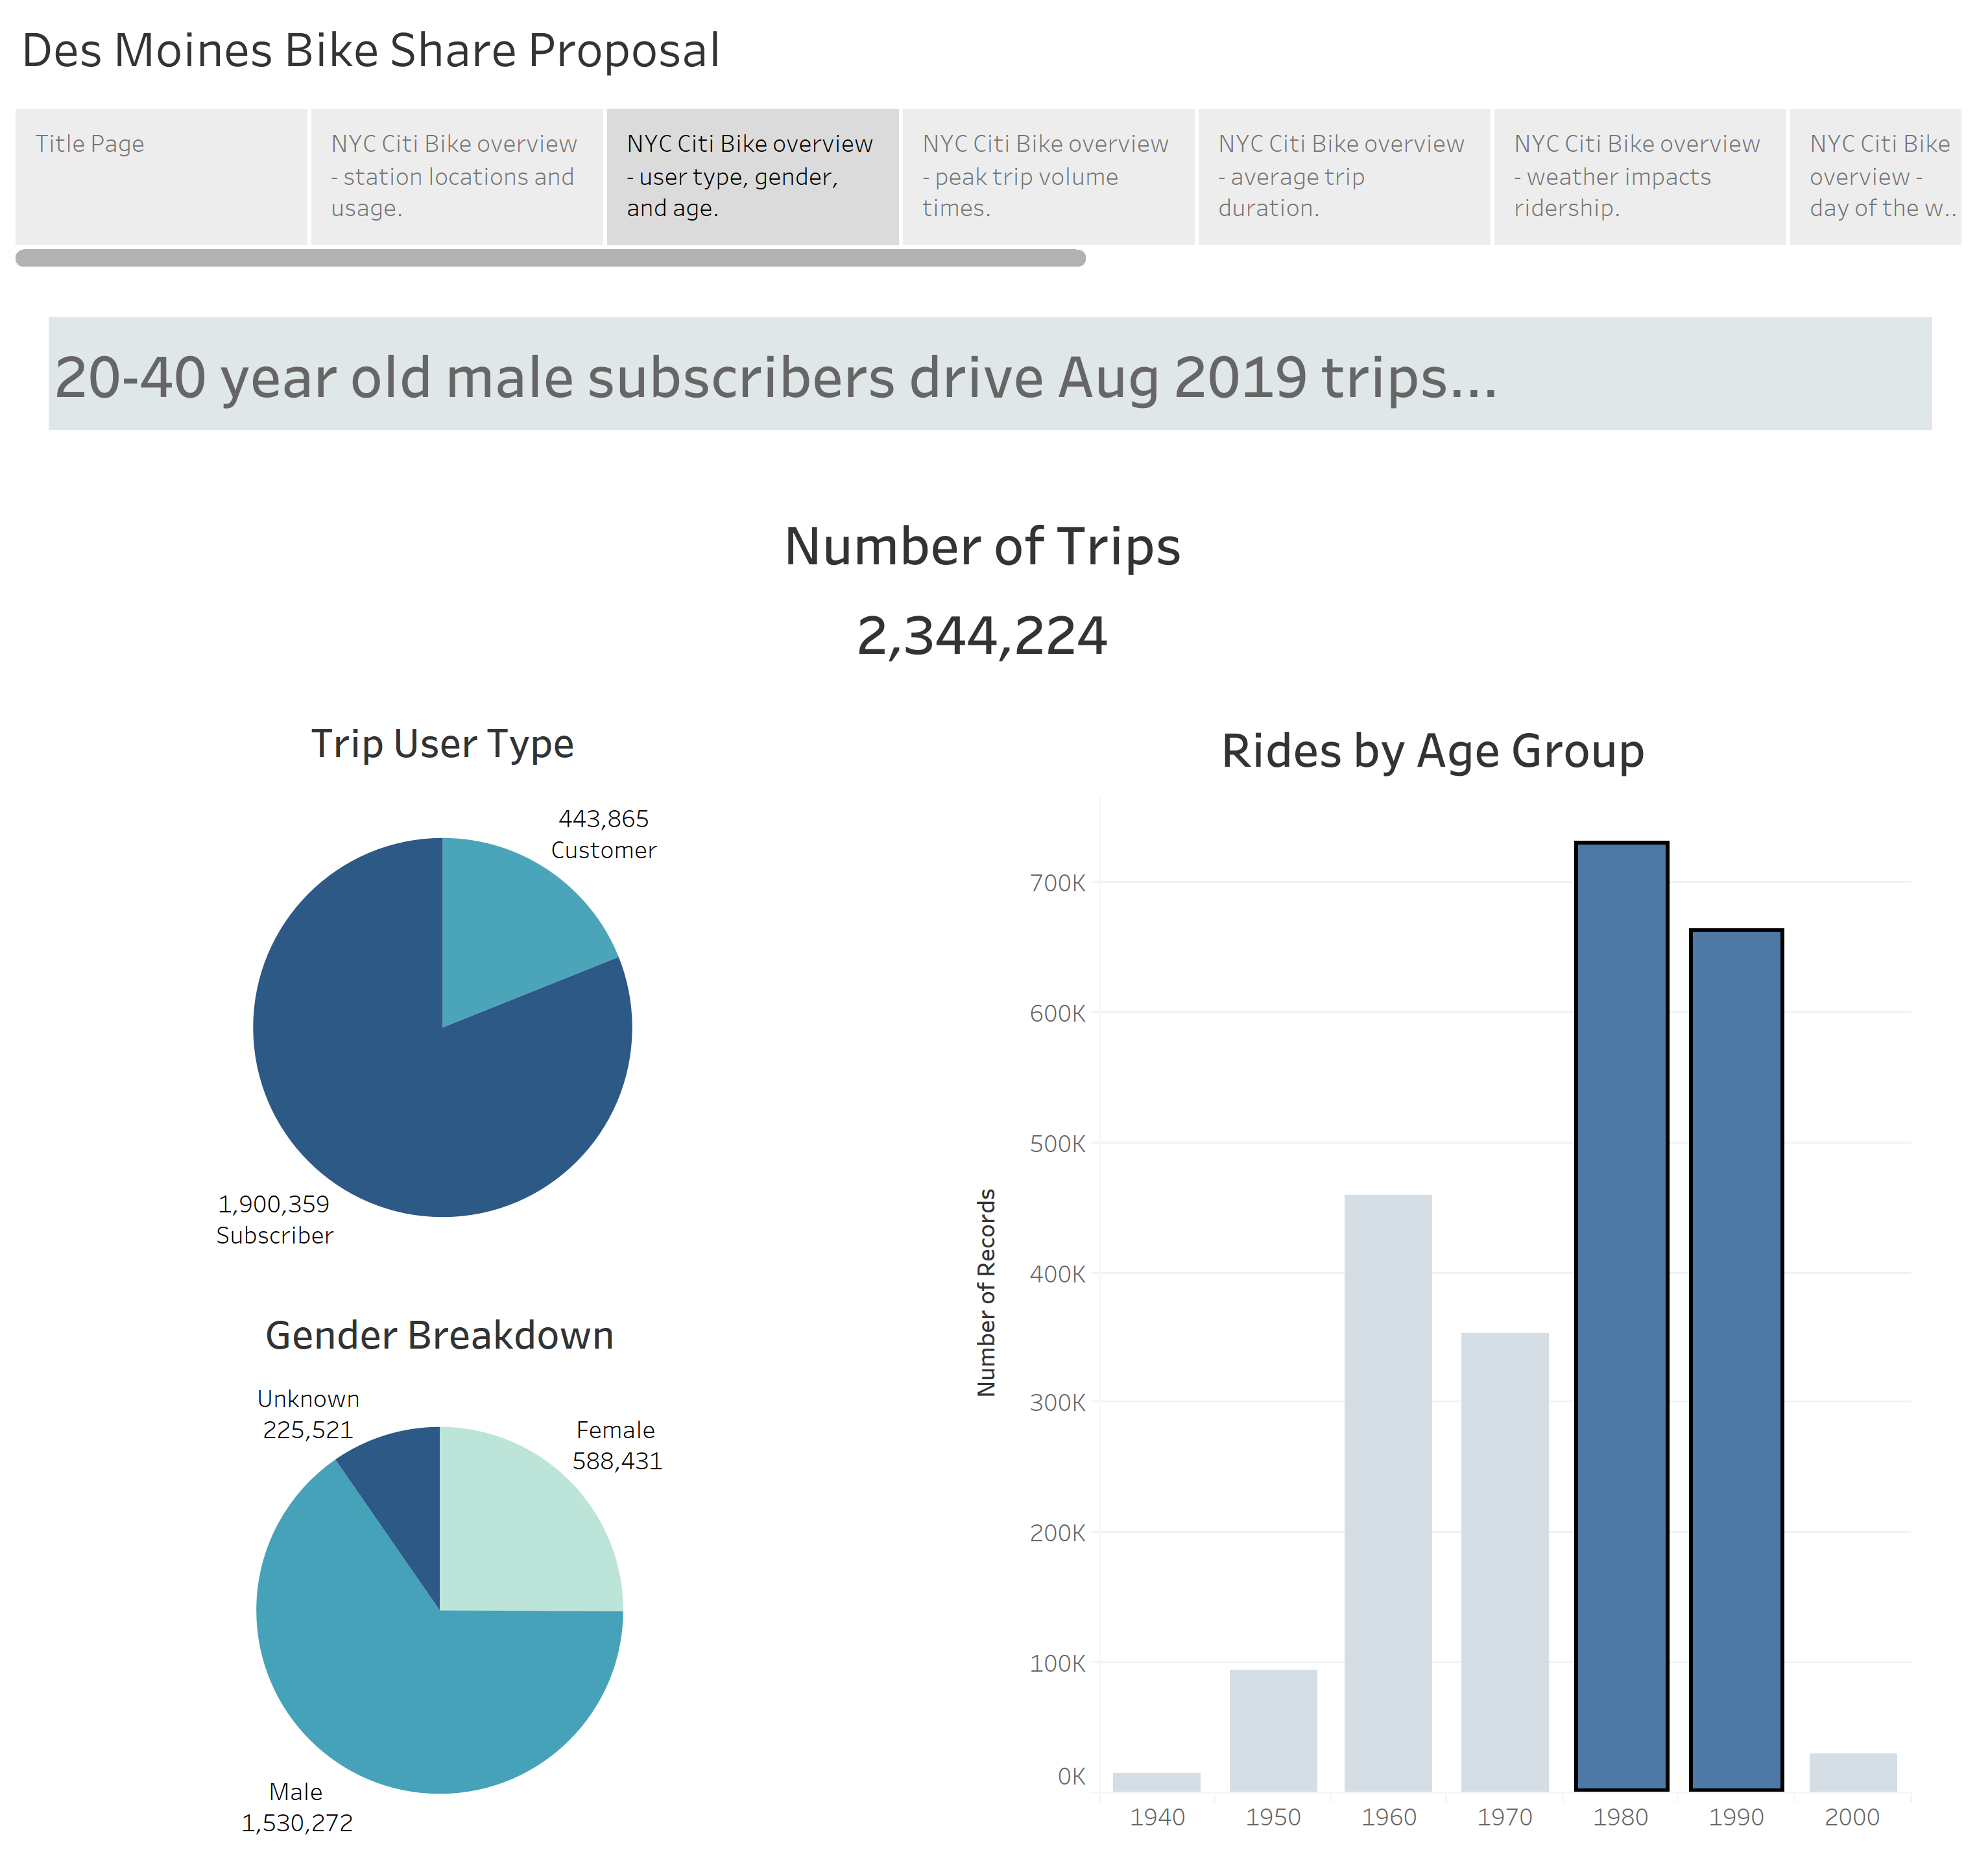

What the dashboard file says about the page in this screenshot:
{"tool":"tableau","page":{"name":"NYC Citi Aug 2019 Trips and Users","canvas":[1000,800],"ordinal":4},"visuals":[{"type":"text","box":[17,21,968,58]},{"type":"worksheet","title":"Number of Trips","mark":"Automatic","box":[17,113,960,94]},{"type":"worksheet","title":"Trip User Type","mark":"Pie","box":[20,219,399,291]},{"type":"worksheet","title":"Rides by Age Group","mark":"Automatic","rows":["Number of Records"],"cols":["Birth Year (bin)"],"box":[483,220,491,580]}]}

Visuals, with their boxes on the page's 1000x800 design canvas (x1, y1, x2, y2). These are canvas units, not pixel positions in the 1977x1876 screenshot, which may show the page scaled, cropped or inside an application window:
text: 17, 21, 985, 79
"Number of Trips" worksheet: 17, 113, 977, 207
"Trip User Type" worksheet (Pie marks): 20, 219, 419, 510
"Rides by Age Group" worksheet: 483, 220, 974, 800
